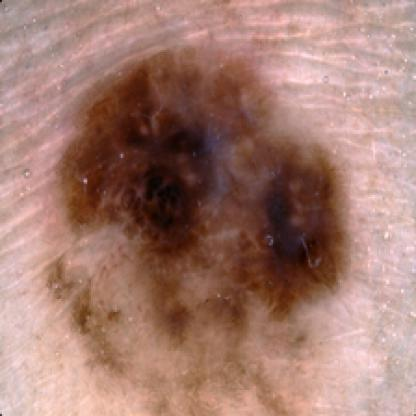malignant: (54, 54, 368, 343)
